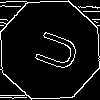U: (25, 25, 81, 75)
